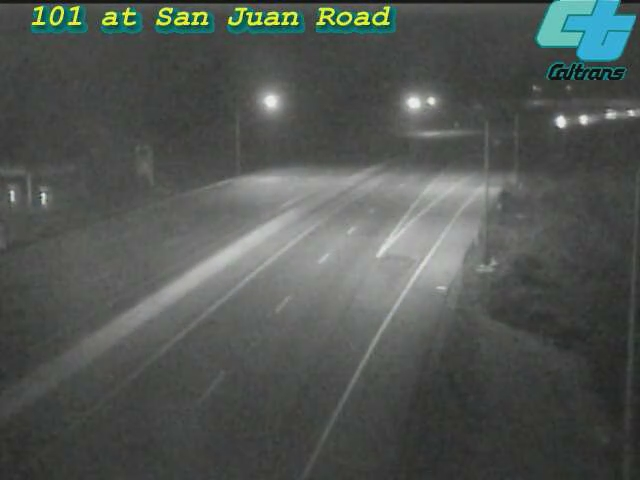vehicle: (589, 90, 639, 140), (558, 96, 608, 146), (536, 97, 586, 147), (605, 87, 640, 137)
